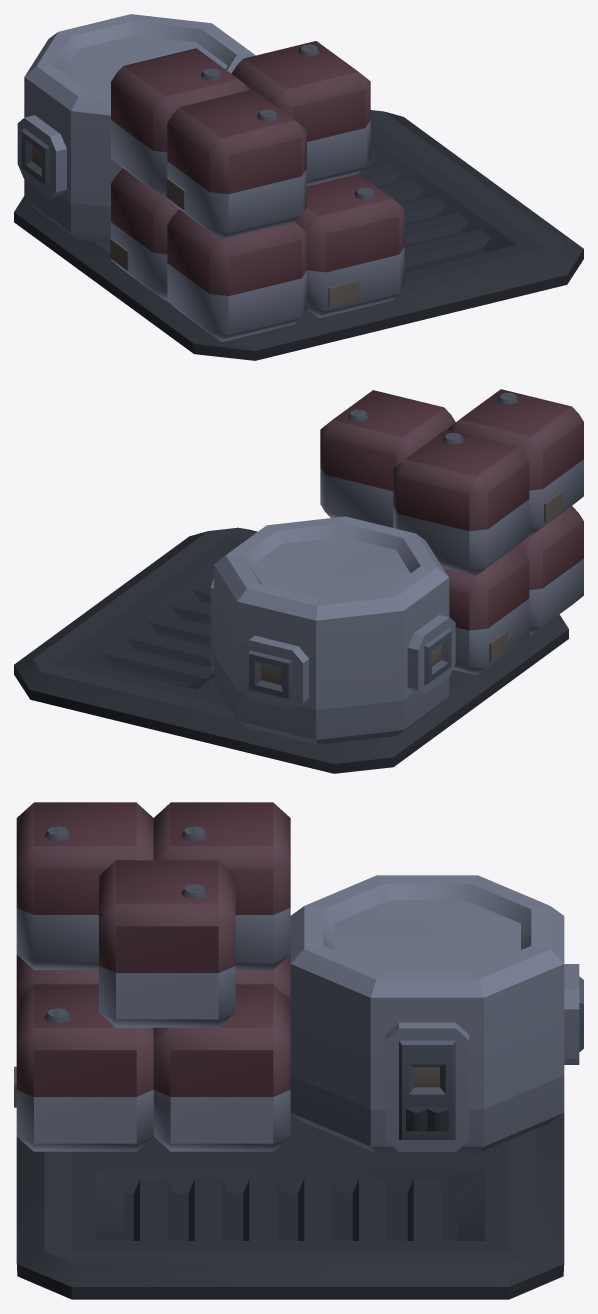
Rendered from cargodepot_A.glb.
3 views of the same model, one above another, from view 1: azimuth 30°, elevation 25°; view 2: azimuth 150°, elevation 25°; view 3: azimuth 270°, elevation 25° (orthographic). The views are drawn at different scales.
Visible parts, largest first — view 1: cargodepot_A; view 2: cargodepot_A; view 3: cargodepot_A.
Boxes of the visible parts, x1,y1,x2,y2 form: cargodepot_A: [14, 14, 583, 360]; cargodepot_A: [14, 389, 583, 773]; cargodepot_A: [14, 802, 583, 1299].
Size of the model in its own units: 2.07 by 1.12 by 2.08.
1 material, 1 textured.
